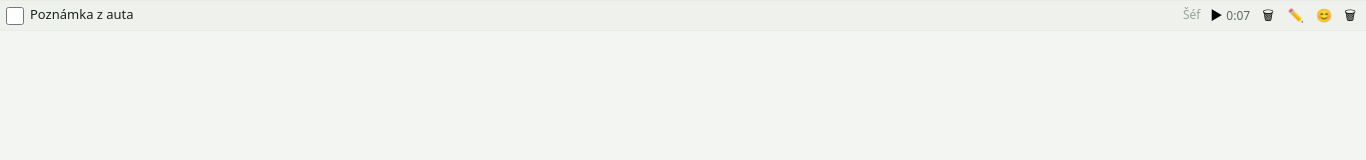
it: zlyhanie prehrávania (cross-device kodek) ukáže viditeľnú hlášku, nie tiché zlyhanie
Click the button with test id "uloha-audio-play-task-1". click: (1230, 16)
box: [1206, 5, 1254, 26]
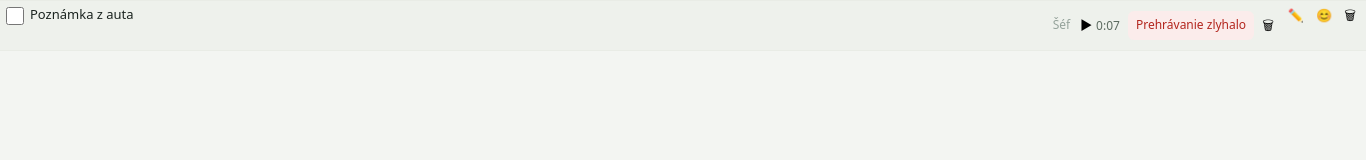
Expected: the message with test id "uloha-audio-failed-task-1" reads "Prehrávanie zlyhalo", [1136, 16, 1246, 33]
